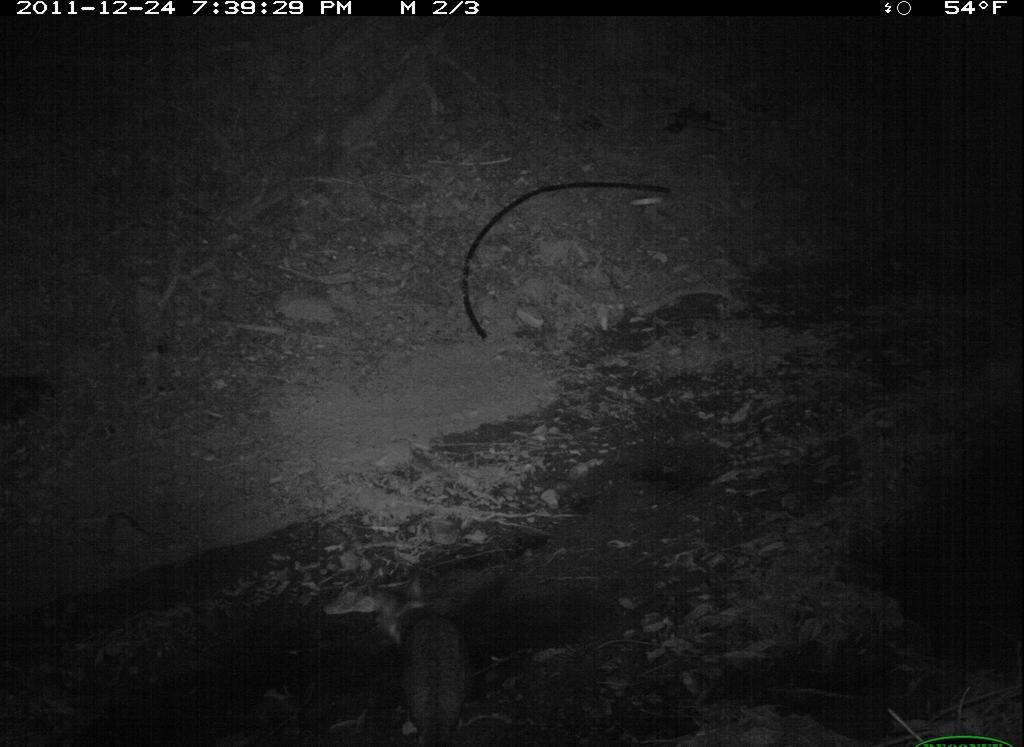cat: (367, 566, 484, 747)
